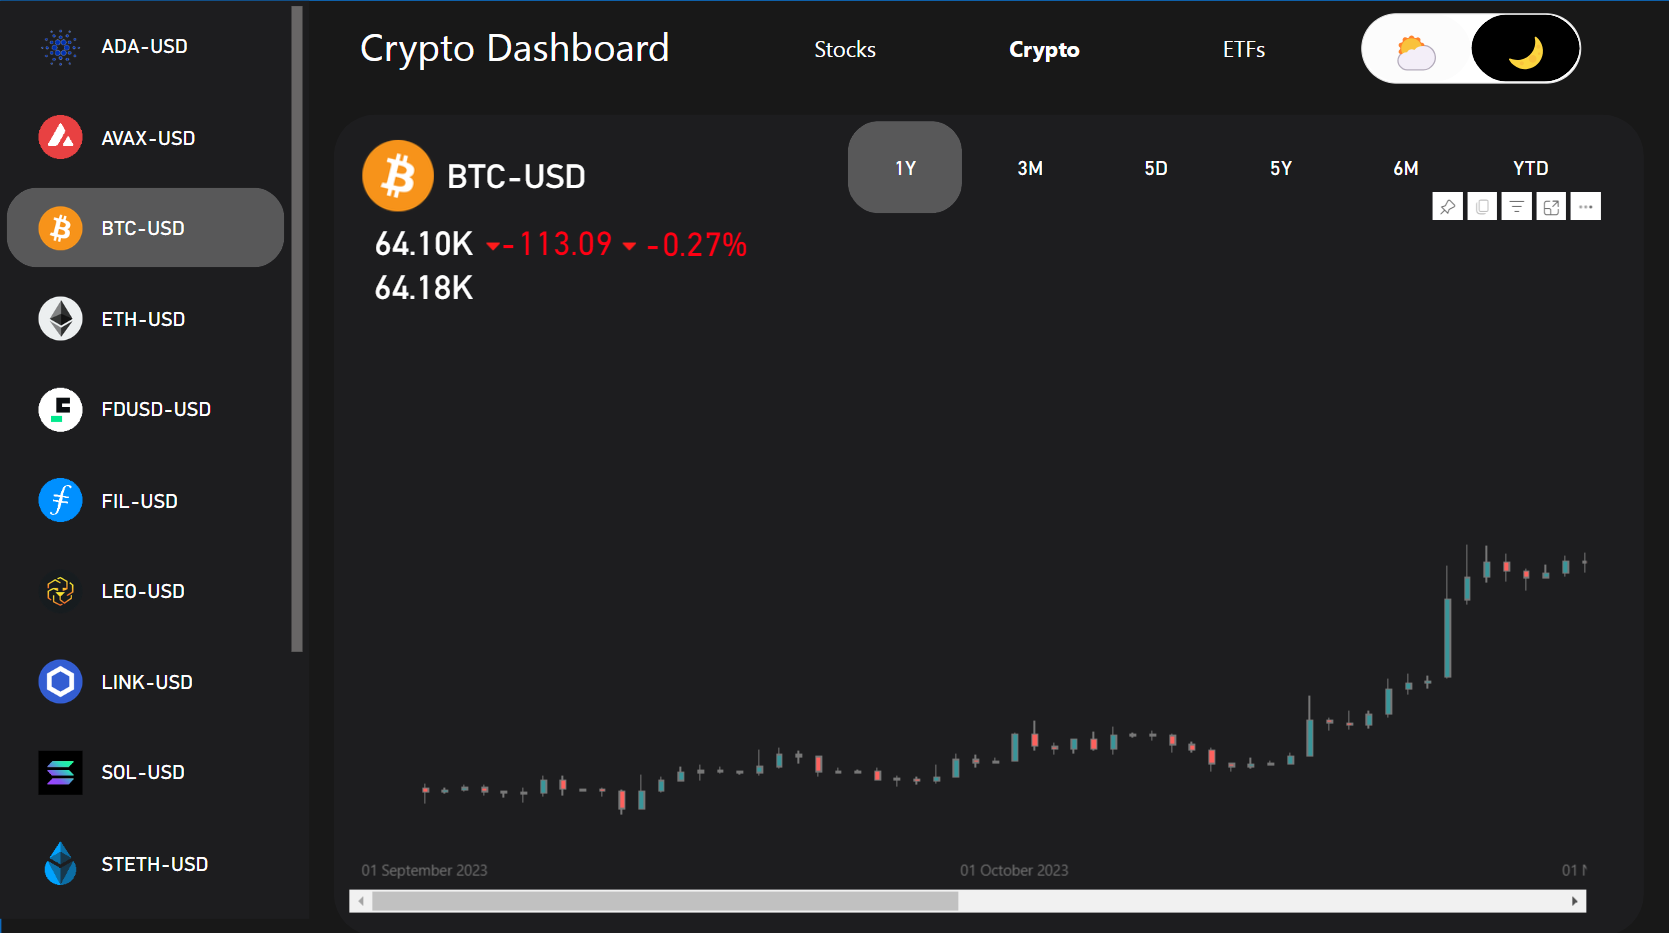

This screenshot's page, from the dashboard's own definition file:
{"tool":"powerbi","page":{"name":"Crypto","canvas":[1280,720],"ordinal":1},"visuals":[{"type":"shape","box":[40,38.2,1215.5,680],"z":0,"group":"g1"},{"type":"group","id":"g1","title":"Market Dashboard","box":[40,37.9,1215.5,680.7],"z":0},{"type":"shape","box":[282.9,121.4,952.9,597.1],"z":1000,"group":"g1"},{"type":"PBI_CV_886A053E_9DFD_4EA0_A47D_CCAEB89AF969","fields":{"Category":["Stocks Data.Date.Variation.Date Hierarchy.Day"],"open":["Min(Stocks Data.Open)"],"close":["Min(Stocks Data.Close)"],"high":["Min(Stocks Data.High)"],"low":["Min(Stocks Data.Low)"]},"box":[282.5,199.3,922,507.5],"z":2000,"group":"g1"},{"type":"shape","box":[40.4,39.1,225,667.7],"z":3000,"group":"g1"},{"type":"advancedSlicerVisual","fields":{"Values":["Stocks Data.Symbol"]},"box":[40.4,37.9,225,668.9],"z":4000,"group":"g1"},{"type":"advancedSlicerVisual","fields":{"Values":["Stocks Data.Date Category"]},"box":[651.4,121.4,552.9,77.1],"z":5000,"group":"g1"},{"type":"advancedSlicerVisual","fields":{"Values":["Color Codes.Icon"]},"box":[1029.6,47.7,160.2,51.4],"z":6000,"group":"g1"},{"type":"cardVisual","fields":{"Data":["Min(Stocks Data.Logo)"]},"box":[282.7,122.1,98.8,91.9],"z":7000,"group":"g1"},{"type":"card","fields":{"Values":["Min(Stocks Data.Symbol)"]},"box":[356.7,140.7,118.6,50.1],"z":8000,"group":"g1"},{"type":"card","fields":{"Values":["Stocks Data.Open_Value"]},"box":[302.6,198,90.9,33],"z":10000,"group":"g1"},{"type":"card","fields":{"Values":["Stocks Data.Close_Value"]},"box":[300.5,230.9,94.3,31.4],"z":11000,"group":"g1"},{"type":"card","fields":{"Values":["Stocks Data.Open_Close_Diff"]},"box":[398.3,198.1,92.9,33],"z":12000,"group":"g1"},{"type":"card","fields":{"Values":["Stocks Data.Diff_%"]},"box":[497.8,198.8,96.1,32.6],"z":13000,"group":"g1"},{"type":"cardVisual","fields":{"Data":["Min(Stocks Data.Logo)"]},"box":[382.2,194,33.9,36.5],"z":14000,"group":"g1"},{"type":"cardVisual","fields":{"Data":["Min(Stocks Data.Logo)"]},"box":[480.9,194,33.5,36.5],"z":15000,"group":"g1"},{"type":"shape","box":[302,37.9,247,66],"z":16000,"group":"g1"},{"type":"pageNavigator","box":[587,52.6,425.5,41.6],"z":17000,"group":"g1"}]}

Visuals, with their boxes in screenshot pixels (x1, y1, x2, y2), scaled from the page's 1280x720 canvas onto the 1669x933 screenshot:
shape: {"x1": 52, "y1": 50, "x2": 1637, "y2": 931}
"Market Dashboard" group: {"x1": 52, "y1": 49, "x2": 1637, "y2": 931}
shape: {"x1": 369, "y1": 157, "x2": 1611, "y2": 931}
PBI_CV_886A053E_9DFD_4EA0_A47D_CCAEB89AF969 - Stocks Data.Date.Variation.Date Hierarchy.Day x Min(Stocks Data.Open): {"x1": 368, "y1": 258, "x2": 1571, "y2": 916}
shape: {"x1": 53, "y1": 51, "x2": 346, "y2": 916}
advancedSlicerVisual - Stocks Data.Symbol: {"x1": 53, "y1": 49, "x2": 346, "y2": 916}
advancedSlicerVisual - Stocks Data.Date Category: {"x1": 849, "y1": 157, "x2": 1570, "y2": 257}
advancedSlicerVisual - Color Codes.Icon: {"x1": 1343, "y1": 62, "x2": 1551, "y2": 128}
cardVisual - Min(Stocks Data.Logo): {"x1": 369, "y1": 158, "x2": 497, "y2": 277}
card - Min(Stocks Data.Symbol): {"x1": 465, "y1": 182, "x2": 620, "y2": 247}
card - Stocks Data.Open_Value: {"x1": 395, "y1": 257, "x2": 513, "y2": 299}
card - Stocks Data.Close_Value: {"x1": 392, "y1": 299, "x2": 515, "y2": 340}
card - Stocks Data.Open_Close_Diff: {"x1": 519, "y1": 257, "x2": 640, "y2": 299}
card - Stocks Data.Diff_%: {"x1": 649, "y1": 258, "x2": 774, "y2": 300}
cardVisual - Min(Stocks Data.Logo): {"x1": 498, "y1": 251, "x2": 543, "y2": 299}
cardVisual - Min(Stocks Data.Logo): {"x1": 627, "y1": 251, "x2": 671, "y2": 299}
shape: {"x1": 394, "y1": 49, "x2": 716, "y2": 135}
pageNavigator: {"x1": 765, "y1": 68, "x2": 1320, "y2": 122}
